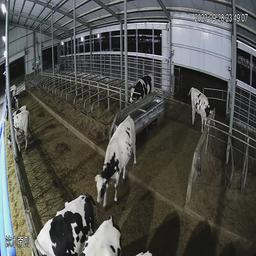cow: (69, 123, 127, 210), (35, 186, 95, 248), (77, 218, 128, 253), (186, 84, 215, 130), (7, 110, 31, 155), (128, 71, 157, 103), (6, 91, 21, 110)
